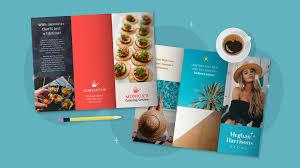paper: (31, 12, 271, 156)
